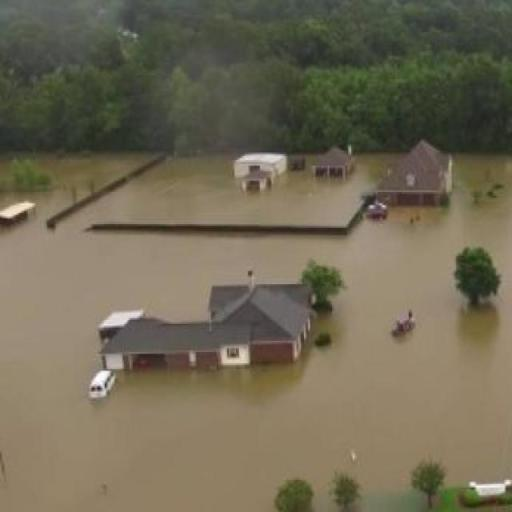flood: (0, 152, 512, 512)
house: (97, 275, 319, 374), (374, 138, 456, 208), (234, 152, 288, 180), (313, 146, 354, 180)
